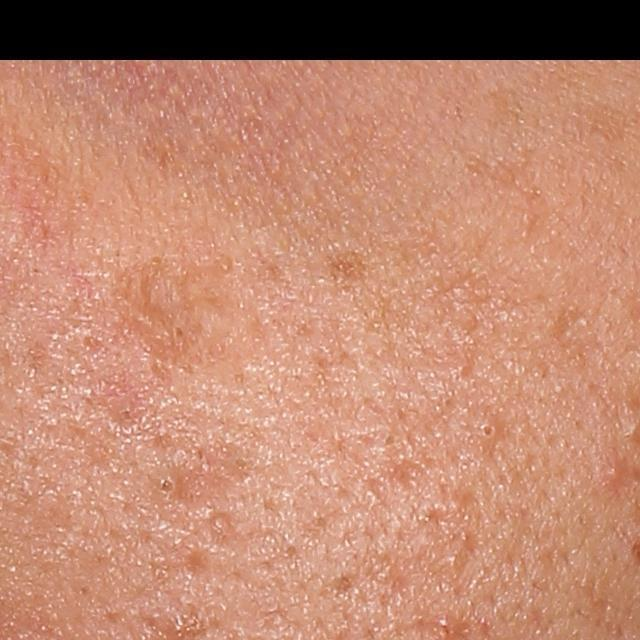atrophic_scar: (109, 262, 241, 388), (185, 546, 216, 581)
comedo: (151, 463, 182, 499), (475, 416, 501, 444), (173, 322, 189, 341)
melasma: (320, 244, 369, 286)
